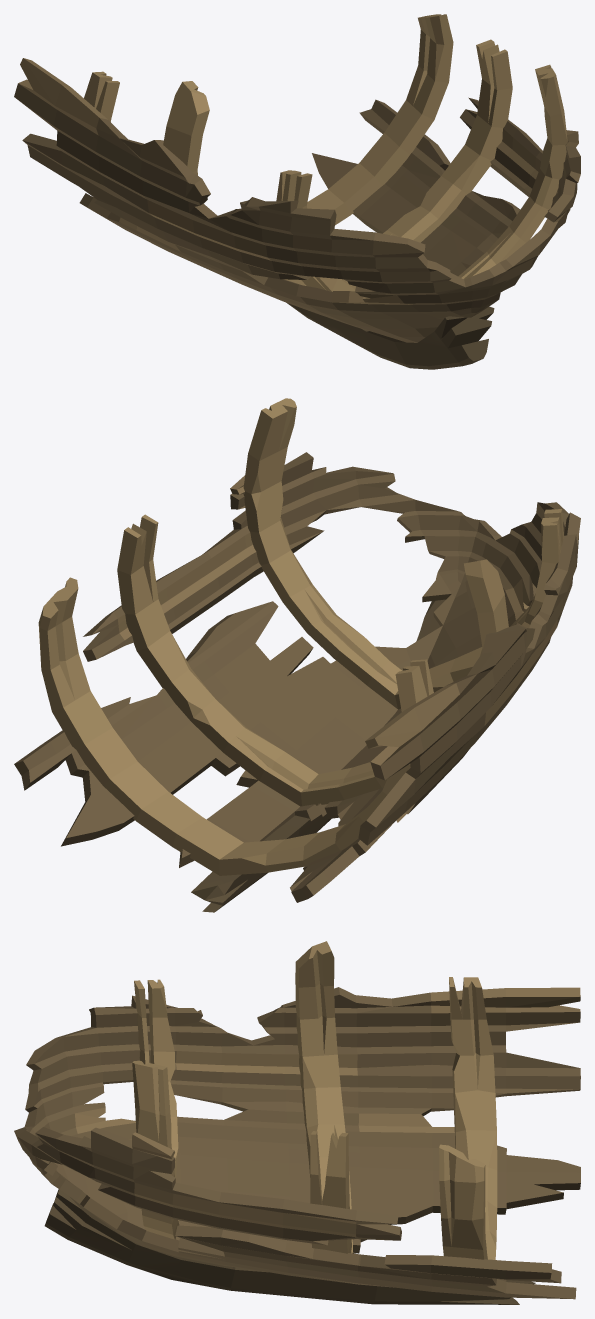
Rendered from trp_wreck.glb.
3 views of the same model, one above another, from view 1: azimuth 30°, elevation 25°; view 2: azimuth 150°, elevation 25°; view 3: azimuth 270°, elevation 25° (orthographic). The views are drawn at different scales.
Parts seen in each view (by area): view 1: SM_Prop_ShipWreck_01; view 2: SM_Prop_ShipWreck_01; view 3: SM_Prop_ShipWreck_01.
Part boxes in pixels (x1=…): SM_Prop_ShipWreck_01: x1=14, y1=14, x2=580, y2=369; SM_Prop_ShipWreck_01: x1=14, y1=398, x2=580, y2=912; SM_Prop_ShipWreck_01: x1=14, y1=941, x2=580, y2=1304.
Size of the model in its own units: 8.27 by 6.41 by 11.05.
Materials: 1 (1 with a texture image).
